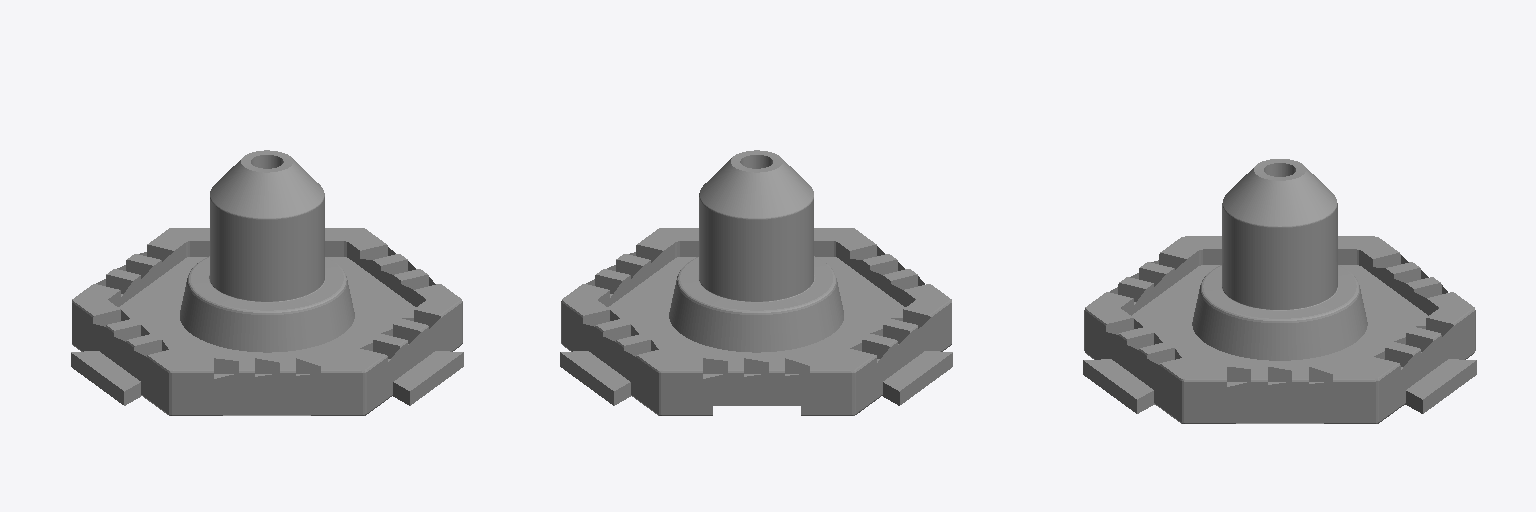
3 renders of one model, left to right at view 1: azimuth 30°, elevation 25°; view 2: azimuth 150°, elevation 25°; view 3: azimuth 270°, elevation 25°, orthographic.
Visible parts, largest first — view 1: Base_Circle.004; view 2: Base_Circle.004; view 3: Base_Circle.004.
Part boxes in pixels (x1,y1,x2,y2): Base_Circle.004: (71, 150, 463, 415); Base_Circle.004: (560, 150, 952, 415); Base_Circle.004: (1083, 159, 1476, 423).
Bounding box in the file's own units: 7.31 × 4.05 × 7.86.